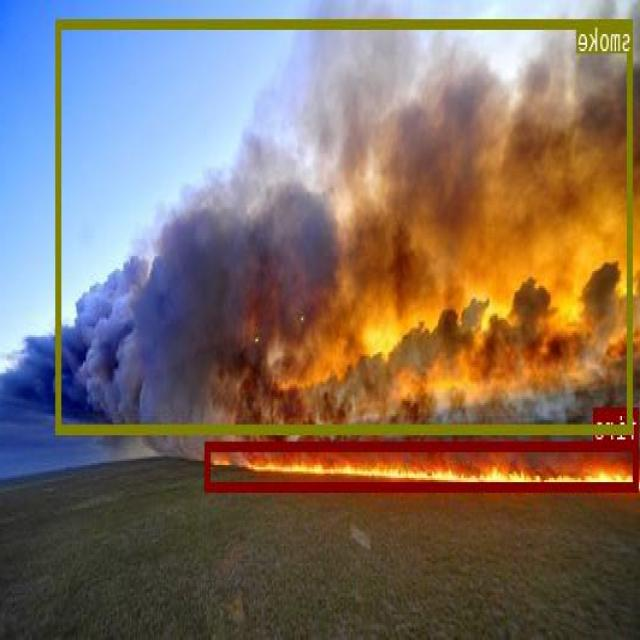fire: (206, 441, 640, 490)
smoke: (57, 19, 634, 431)
